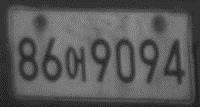0: (113, 38, 135, 83)
4: (162, 38, 186, 85)
6: (41, 37, 62, 80)
8: (17, 36, 39, 82)
9: (137, 38, 159, 85), (90, 37, 111, 82)
어: (64, 43, 86, 82)
